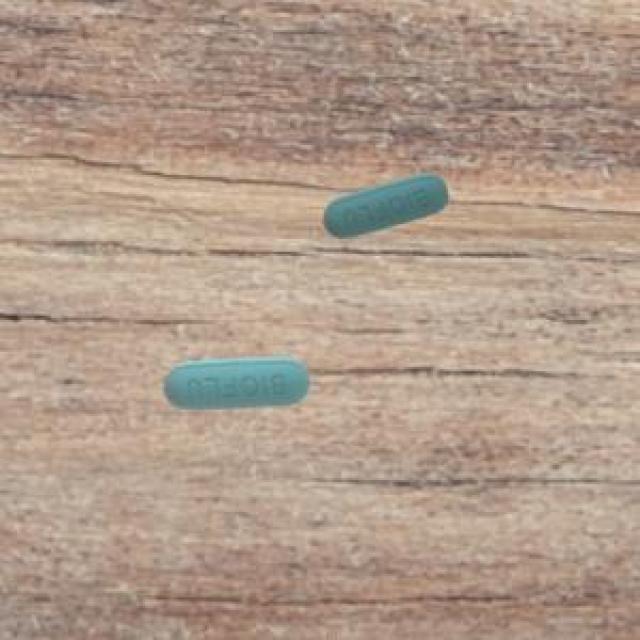Bioflu: (151, 347, 321, 425), (312, 170, 456, 242)
